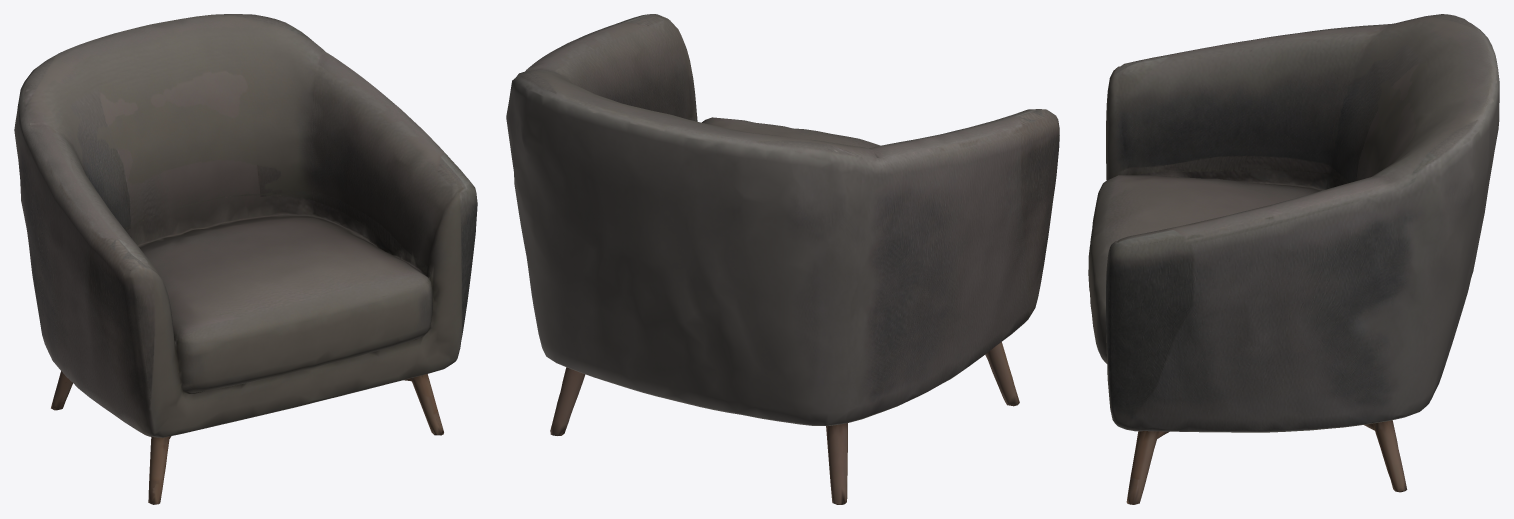
Rendered from Meshy_AI_Cozy_Armchair_0120043550_texture.fbx.
3 renders of one model, left to right at view 1: azimuth 30°, elevation 25°; view 2: azimuth 150°, elevation 25°; view 3: azimuth 270°, elevation 25°, orthographic. The views are drawn at different scales.
Parts seen in each view (by area): view 1: Mesh_0; view 2: Mesh_0; view 3: Mesh_0.
Part boxes in pixels (bbox=[...]): Mesh_0: bbox=[14, 14, 477, 504]; Mesh_0: bbox=[506, 14, 1059, 504]; Mesh_0: bbox=[1088, 14, 1499, 504].
Bounding box in the file's own units: 191 × 164 × 173.
1 material, 1 textured.
